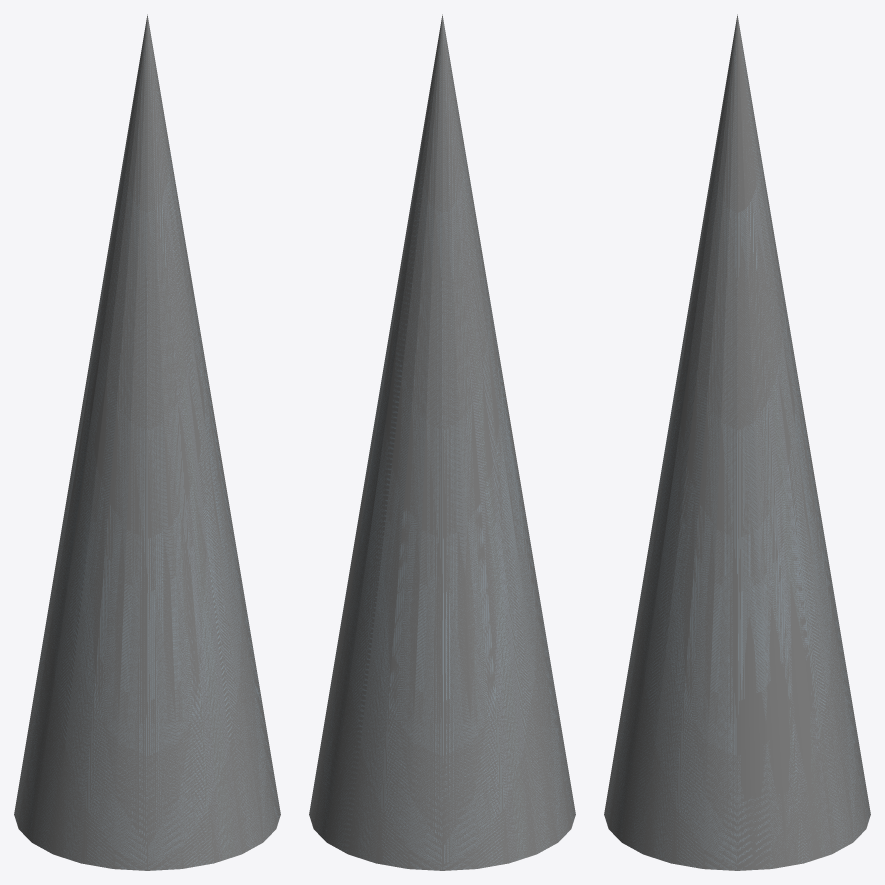
3 views of the same model, side by side, from view 1: azimuth 30°, elevation 25°; view 2: azimuth 150°, elevation 25°; view 3: azimuth 270°, elevation 25° (orthographic).
Visible parts, largest first — view 1: SketchUp; view 2: SketchUp; view 3: SketchUp.
Boxes of the visible parts, x1,y1,x2,y2 form: SketchUp: (14, 14, 280, 870); SketchUp: (309, 14, 575, 870); SketchUp: (604, 14, 870, 870).
Bounding box in the file's own units: 37 × 37 × 122.
